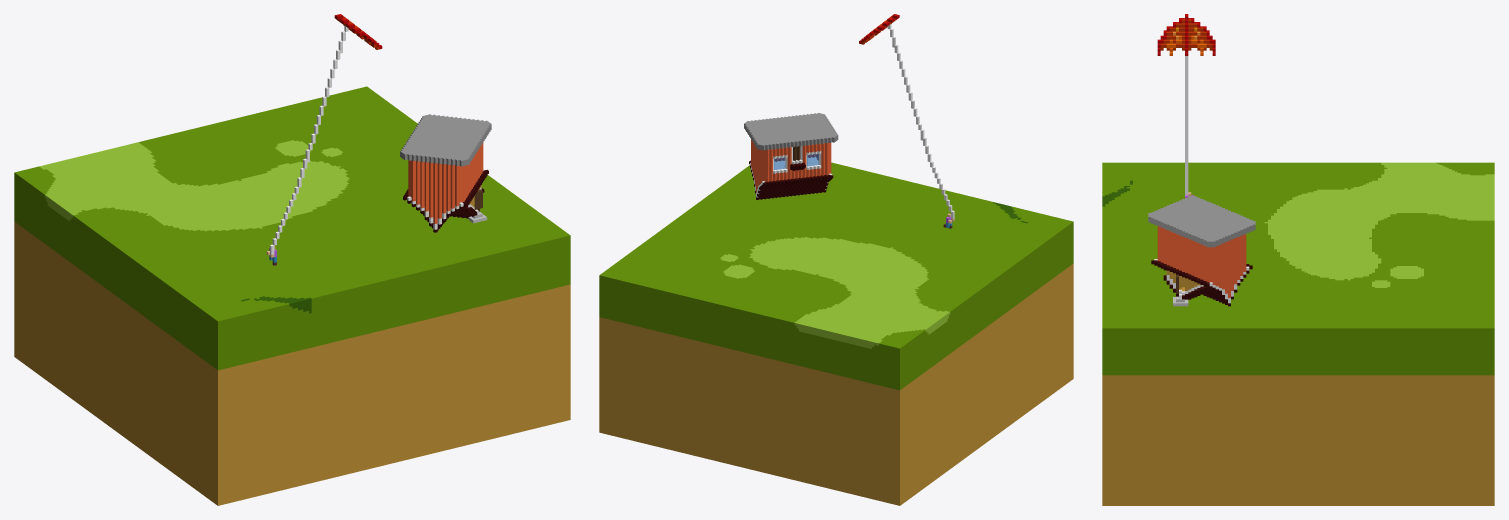
3 renders of one model, left to right at view 1: azimuth 30°, elevation 25°; view 2: azimuth 150°, elevation 25°; view 3: azimuth 270°, elevation 25°, orthographic. The views are drawn at different scales.
Parts seen in each view (by area): view 1: 5D; view 2: 5D; view 3: 5D.
Part boxes in pixels (<box>): 5D: <box>14,14,570,505</box>; 5D: <box>599,14,1073,505</box>; 5D: <box>1102,14,1494,505</box>.
Size of the model in its own units: 12.8 by 14.5 by 12.8.
Materials: 3 (1 with a texture image).
